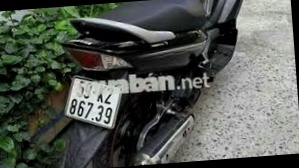Bien-so: (77, 73, 134, 128)
